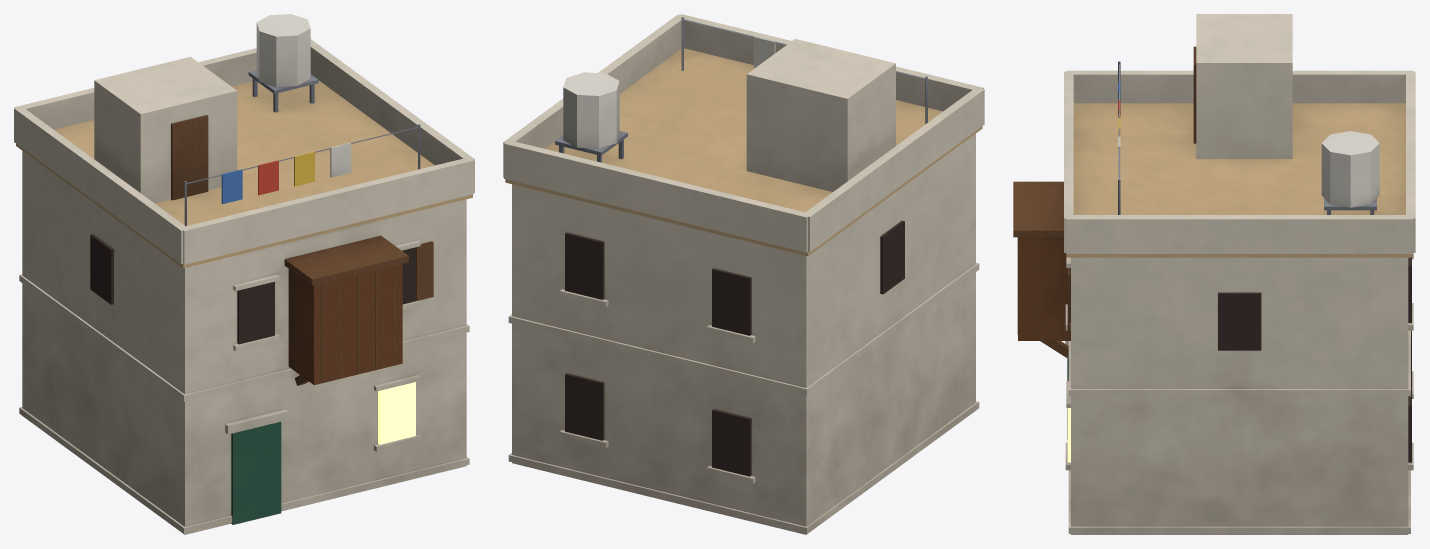
File: hus_kairo_3_tex.glb
The picture shows the model from 3 angles, left to right: view 1: azimuth 30°, elevation 25°; view 2: azimuth 150°, elevation 25°; view 3: azimuth 270°, elevation 25°; orthographic projection. The views are drawn at different scales.
Parts seen in each view (by area): view 1: hus_kairo_3; view 2: hus_kairo_3; view 3: hus_kairo_3.
Boxes of the visible parts, x1=… form: hus_kairo_3: x1=14, y1=14, x2=474, y2=534; hus_kairo_3: x1=503, y1=14, x2=984, y2=534; hus_kairo_3: x1=1013, y1=14, x2=1415, y2=534.
Bounding box in the file's own units: 7.3 × 8.85 × 8.35.
12 materials, 7 textured.
